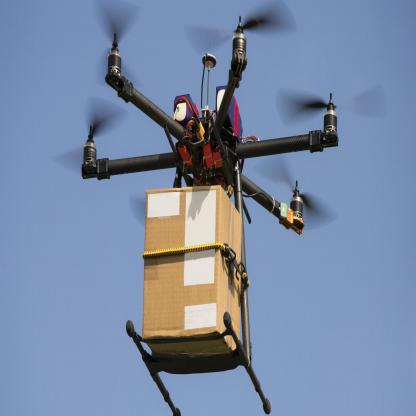drone: (57, 10, 357, 268)
